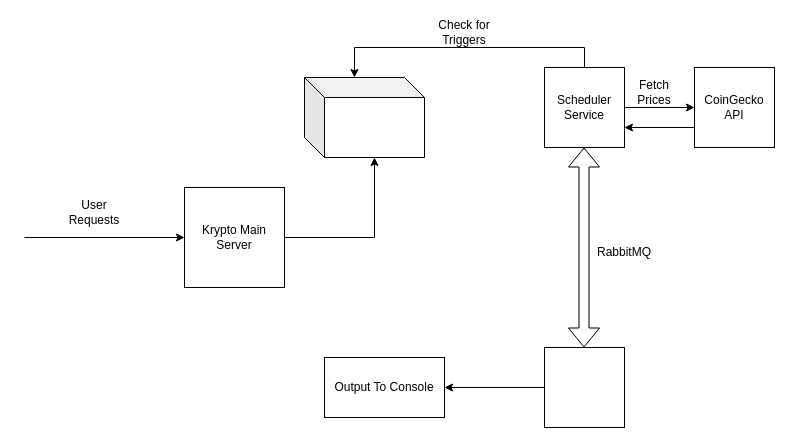
The diagram is 792 pixels wide and 445 high, and some of its shapes have lost their labels. The shapes that lost their labels are listed below. From the top down, each one's centre as x and y in pixels, then its label:
At (x=364, y=117): "PostgreSQL".
At (x=584, y=387): "Mailing Service".
